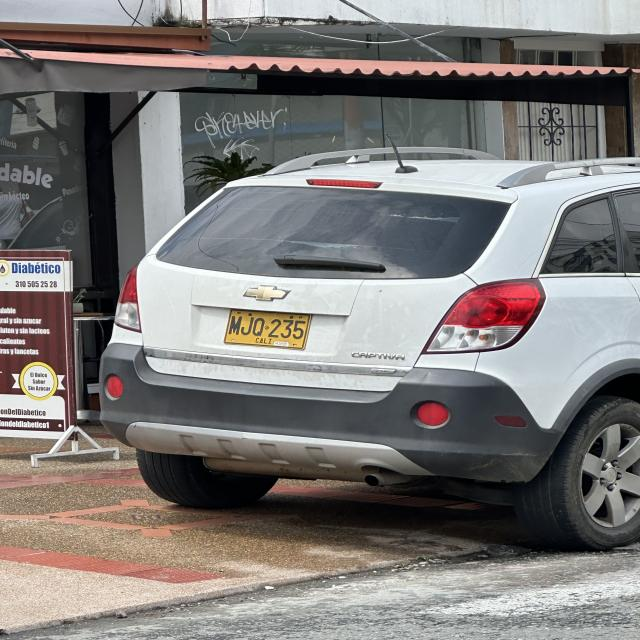number plate: (224, 309, 311, 349)
